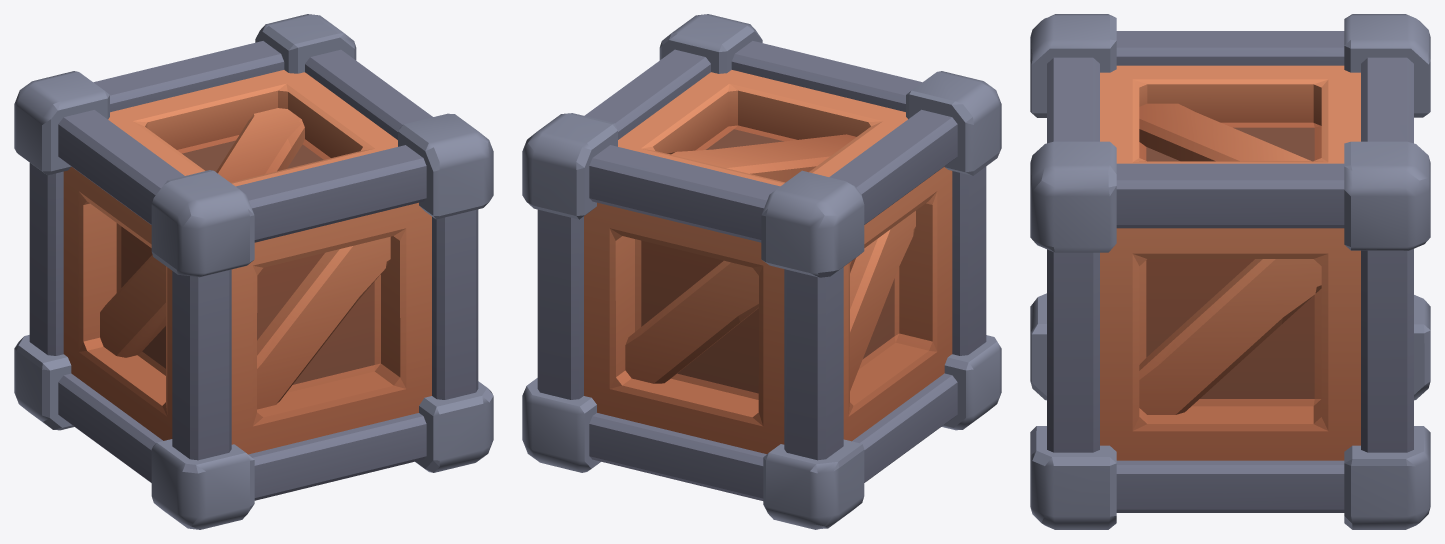
File: kenney-platformer__crate-strong.glb
The picture shows the model from 3 angles, left to right: view 1: azimuth 30°, elevation 25°; view 2: azimuth 150°, elevation 25°; view 3: azimuth 270°, elevation 25°; orthographic projection. The views are drawn at different scales.
Parts seen in each view (by area): view 1: crate-strong; view 2: crate-strong; view 3: crate-strong.
Boxes of the visible parts, box(x1,y1,x2,y2) form: crate-strong: box(14, 14, 493, 529); crate-strong: box(522, 14, 1001, 529); crate-strong: box(1030, 14, 1430, 529).
Size of the model in its own units: 0.6 by 0.6 by 0.6.
1 material, 1 textured.
